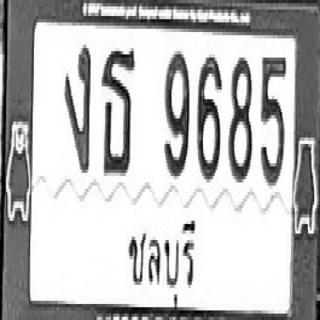A07: (64, 43, 90, 171)
A24: (101, 46, 135, 175)
N05: (260, 54, 286, 186)
N06: (197, 54, 221, 179)
N08: (228, 54, 252, 182)
N09: (164, 49, 189, 178)
P13: (120, 208, 200, 313)
